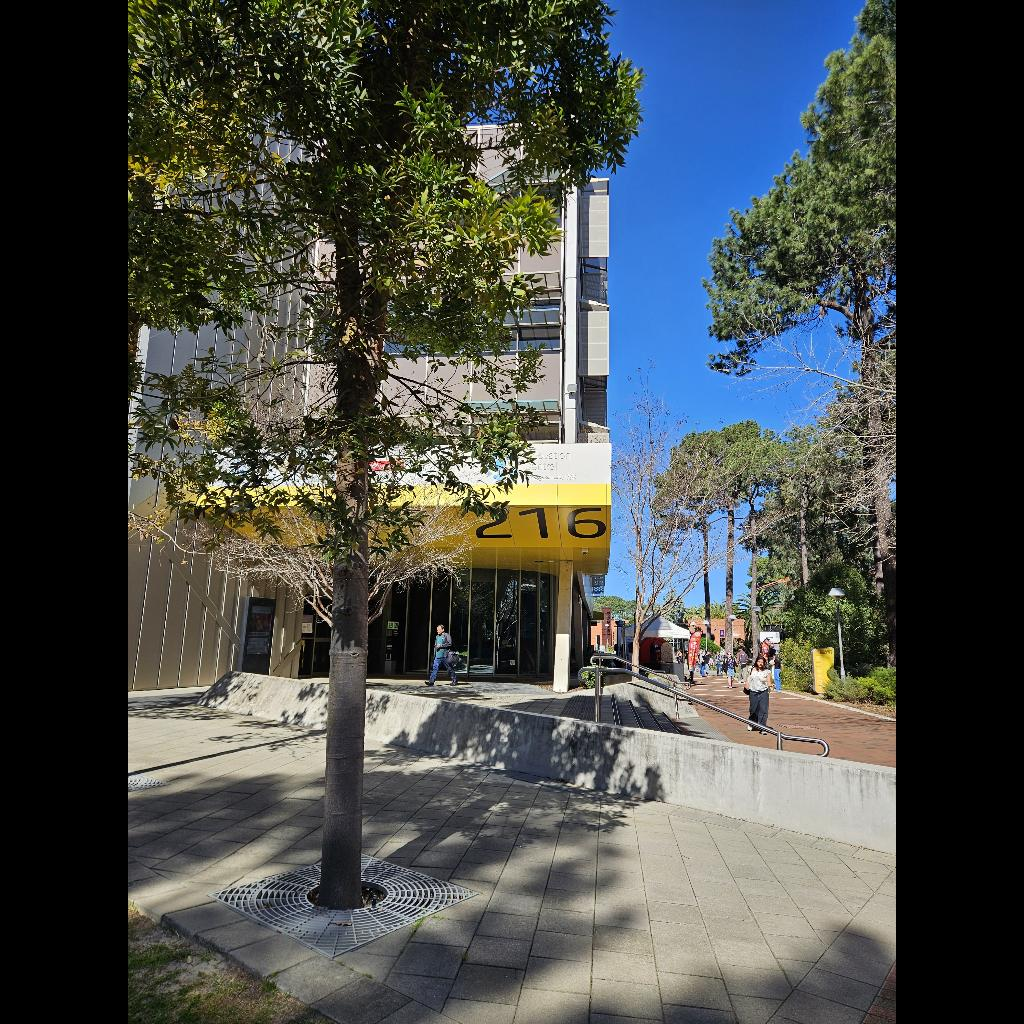BuildingCodes: (468, 506, 608, 540)
